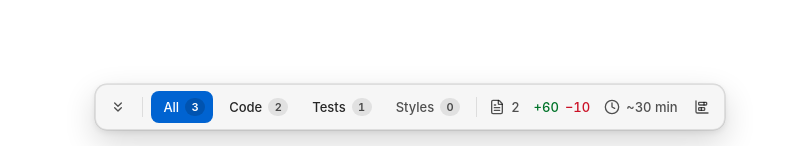
it: FilterBar › explains the next file and the time in tooltips
The width and height of the screenshot is (804, 146).
Hover over the button named "Next file to review, 2 left" at [118, 107], box [102, 91, 134, 123]
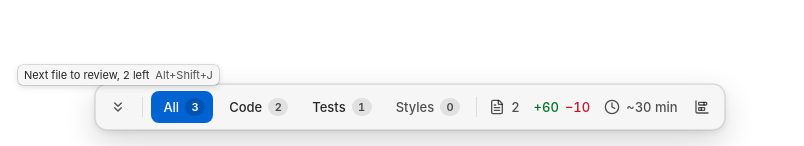
expect the text "Alt+Shift+J" is shown: met, box [155, 68, 213, 82]
Hover over the element named "About 30 min left to review" at [641, 107], box [604, 99, 678, 115]
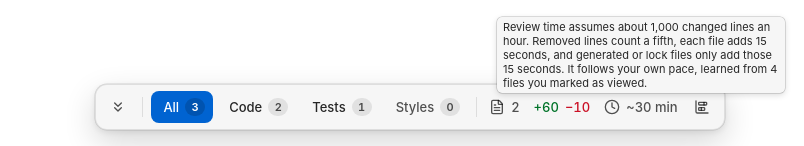
expect the text "learned from 4 files" is shown: met, box [503, 20, 777, 90]
